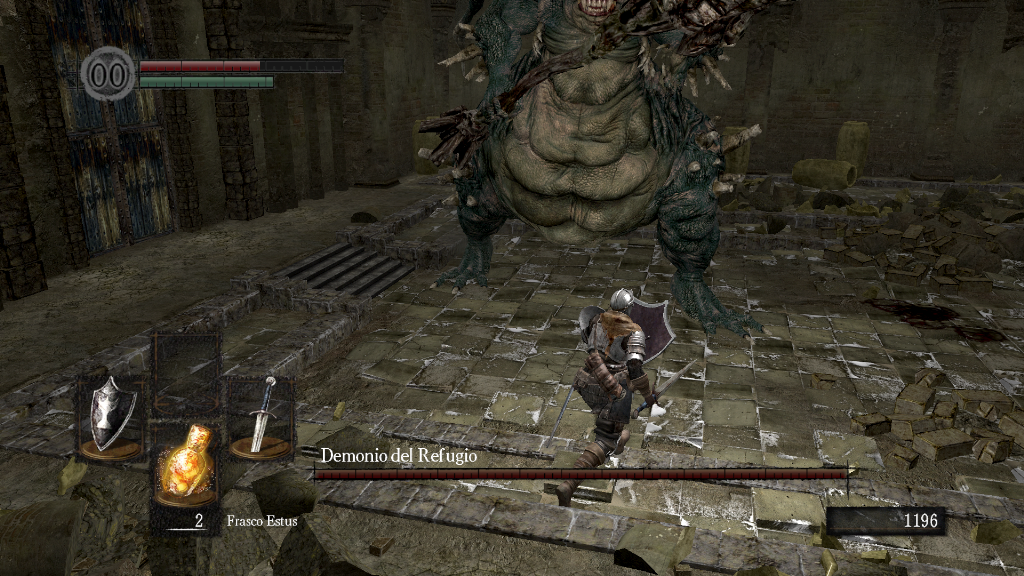asylumDemon: (421, 1, 776, 347)
bossHP: (314, 469, 847, 479)
health: (138, 58, 343, 71)
humanity: (80, 45, 136, 102)
player: (556, 287, 696, 507)
souls: (825, 506, 945, 536)
stamina: (138, 74, 274, 88)
